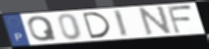0: (57, 13, 84, 41)
D: (80, 11, 113, 39)
F: (165, 5, 194, 35)
I: (112, 9, 130, 38)
N: (138, 5, 173, 37)
Q: (27, 15, 59, 42)
